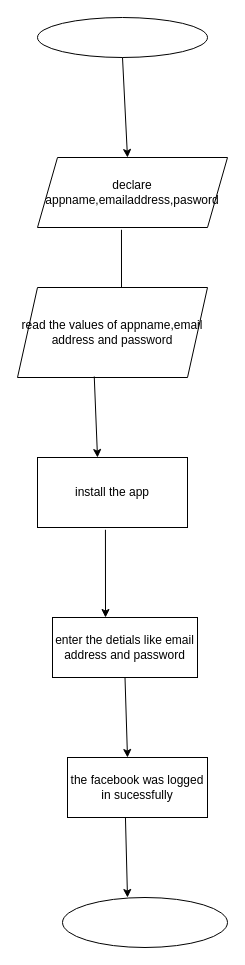
The diagram is 245 pixels wide and 965 high, and some of its shapes have lost their labels. The centre of each missing label's shape, as x and y in pixels:
"start" goes at (x=122, y=37).
"stop" goes at (x=145, y=922).
